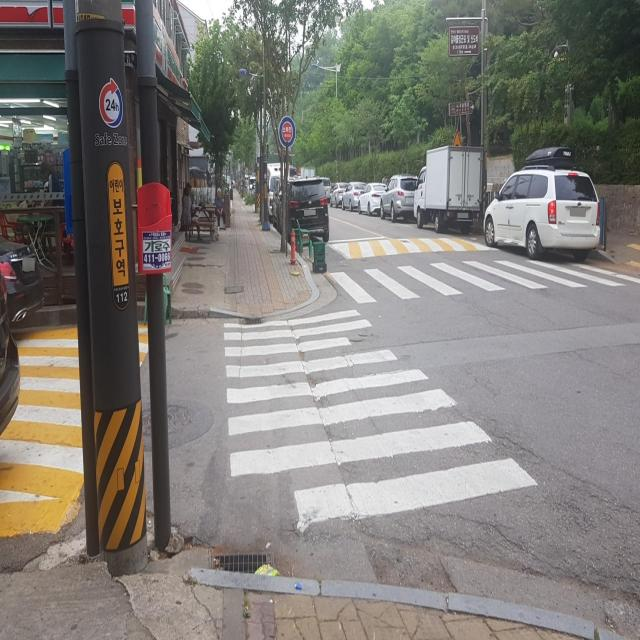횡단보도: (220, 304, 540, 536), (328, 260, 640, 301)
